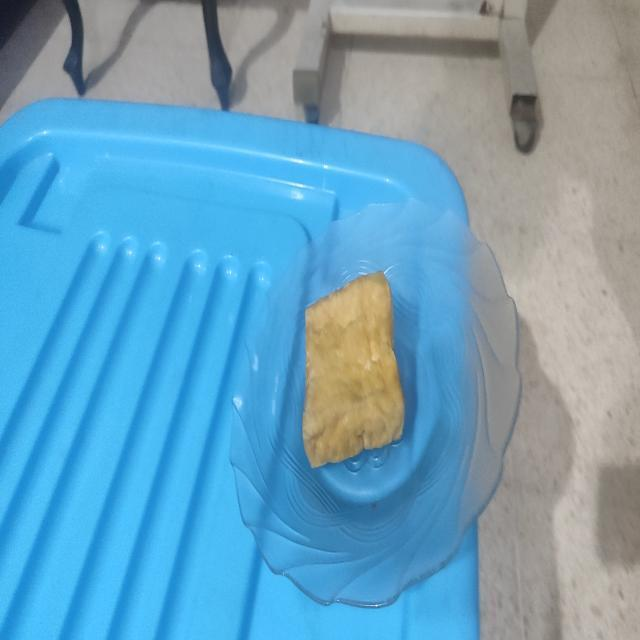tahu_goreng: (302, 271, 404, 468)
